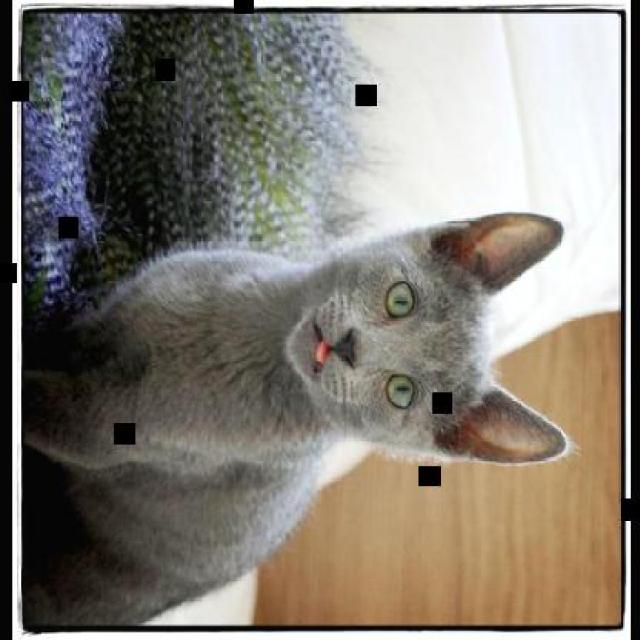unauthorized: (20, 209, 574, 628)
